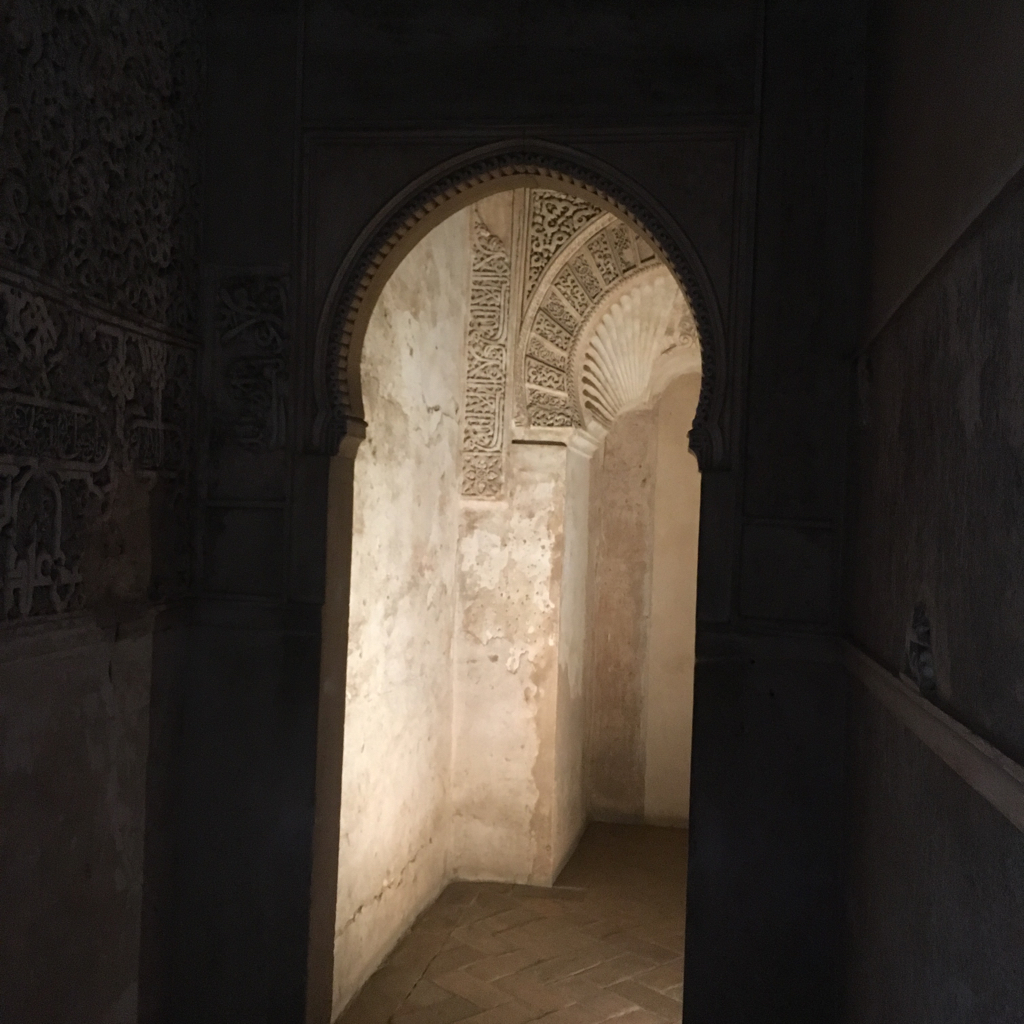arco-herradura: (308, 140, 729, 487)
